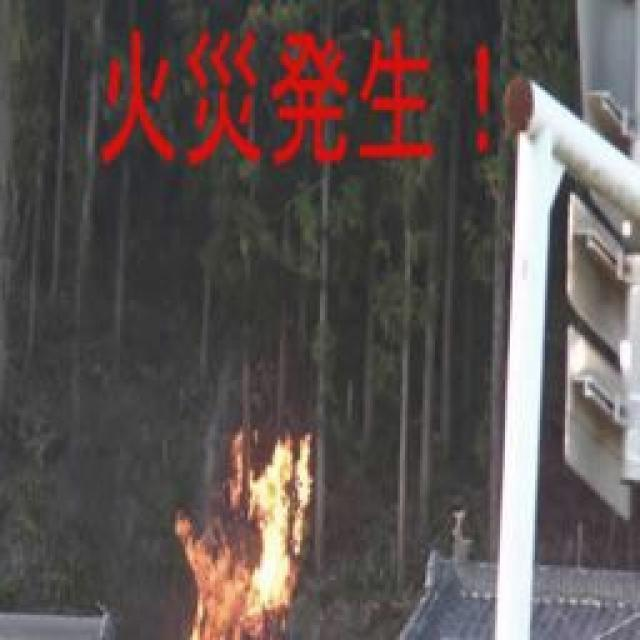Fire: (169, 431, 327, 640)
